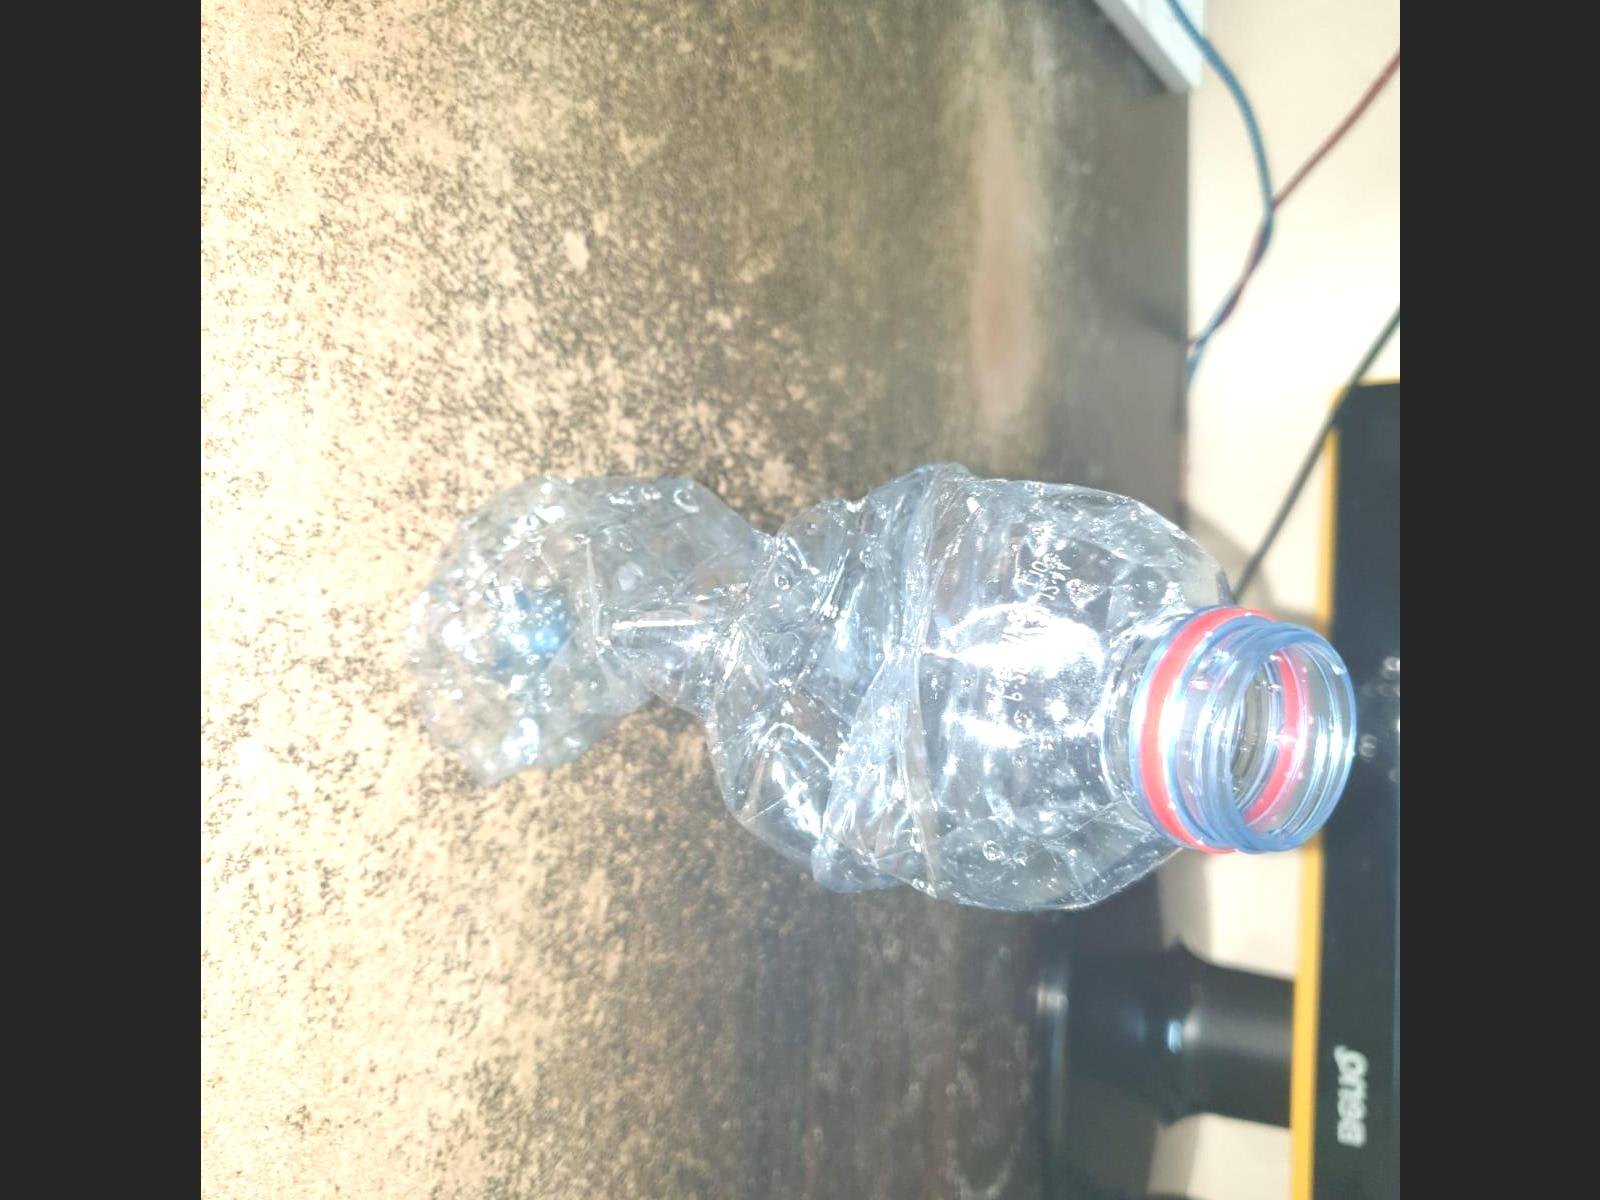bottle: (407, 459, 1369, 915)
